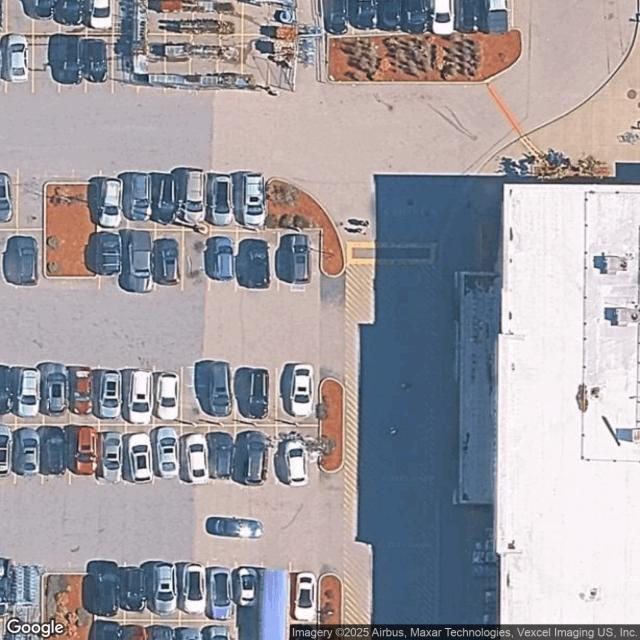car: (125, 231, 154, 293), (238, 429, 270, 484), (205, 361, 234, 420), (176, 169, 206, 225), (128, 366, 156, 425), (124, 432, 154, 483), (289, 571, 318, 623), (181, 432, 210, 483), (36, 426, 66, 475), (148, 172, 176, 224), (206, 516, 264, 541), (282, 437, 310, 488), (154, 428, 181, 480), (180, 561, 206, 614), (245, 237, 271, 290), (42, 362, 67, 417), (14, 234, 40, 286), (15, 365, 41, 417), (156, 234, 181, 288), (206, 432, 234, 480), (208, 566, 232, 622), (98, 369, 123, 422), (95, 432, 122, 481), (96, 561, 120, 616), (153, 372, 179, 420), (66, 367, 92, 415), (6, 33, 30, 84), (98, 178, 123, 226), (242, 174, 265, 226), (153, 564, 176, 616), (212, 172, 233, 227), (289, 367, 313, 415), (96, 231, 120, 279), (85, 38, 110, 84), (127, 173, 150, 222), (74, 426, 98, 472), (402, 0, 435, 33), (246, 370, 269, 416), (61, 38, 83, 85), (17, 429, 38, 477), (124, 567, 146, 612), (289, 236, 310, 282), (212, 237, 232, 284), (428, 0, 457, 32), (455, 0, 484, 32), (484, 0, 511, 33), (325, 0, 351, 33), (375, 0, 403, 29), (87, 0, 114, 29), (352, 0, 377, 29), (237, 568, 257, 604), (0, 424, 13, 474), (0, 172, 13, 222), (0, 365, 13, 413), (56, 0, 82, 24), (93, 621, 120, 640), (30, 0, 54, 20), (120, 624, 149, 640), (177, 627, 205, 640), (150, 626, 176, 640), (207, 627, 231, 640)
